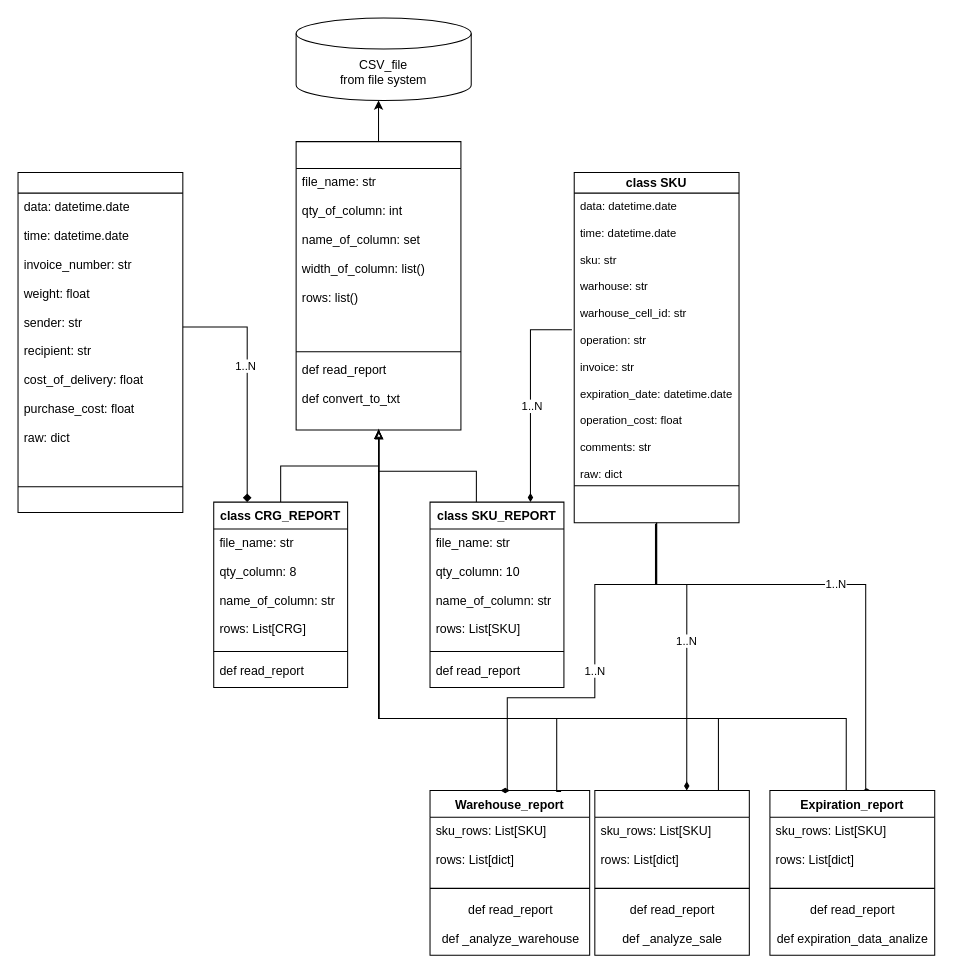
The diagram is 953 pixels wide and 973 high, and some of its shapes have lost their labels. The shapes that lost their labels are listed below. From the top down, each one's box as (x1, y1, x2, y2) in pixels, then its label:
(295, 141, 461, 430): class REPORT
(17, 171, 183, 512): class CRG
(594, 789, 749, 955): Sale_report
